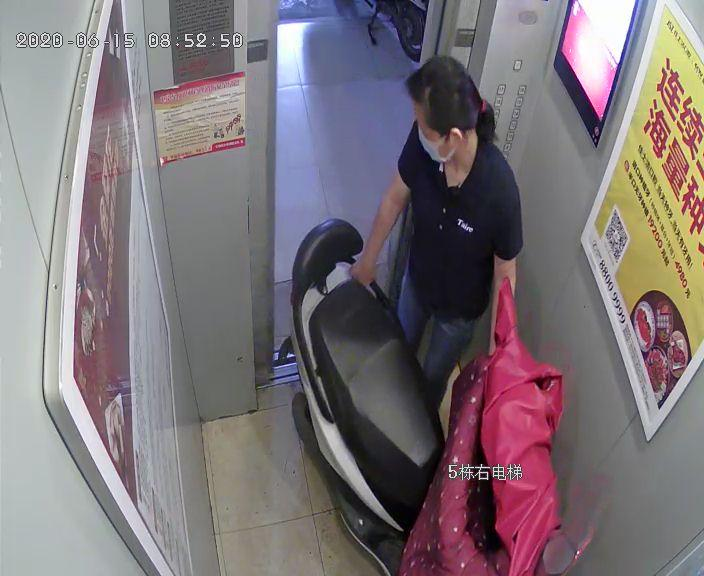Electric-bicycle: (288, 215, 581, 574)
